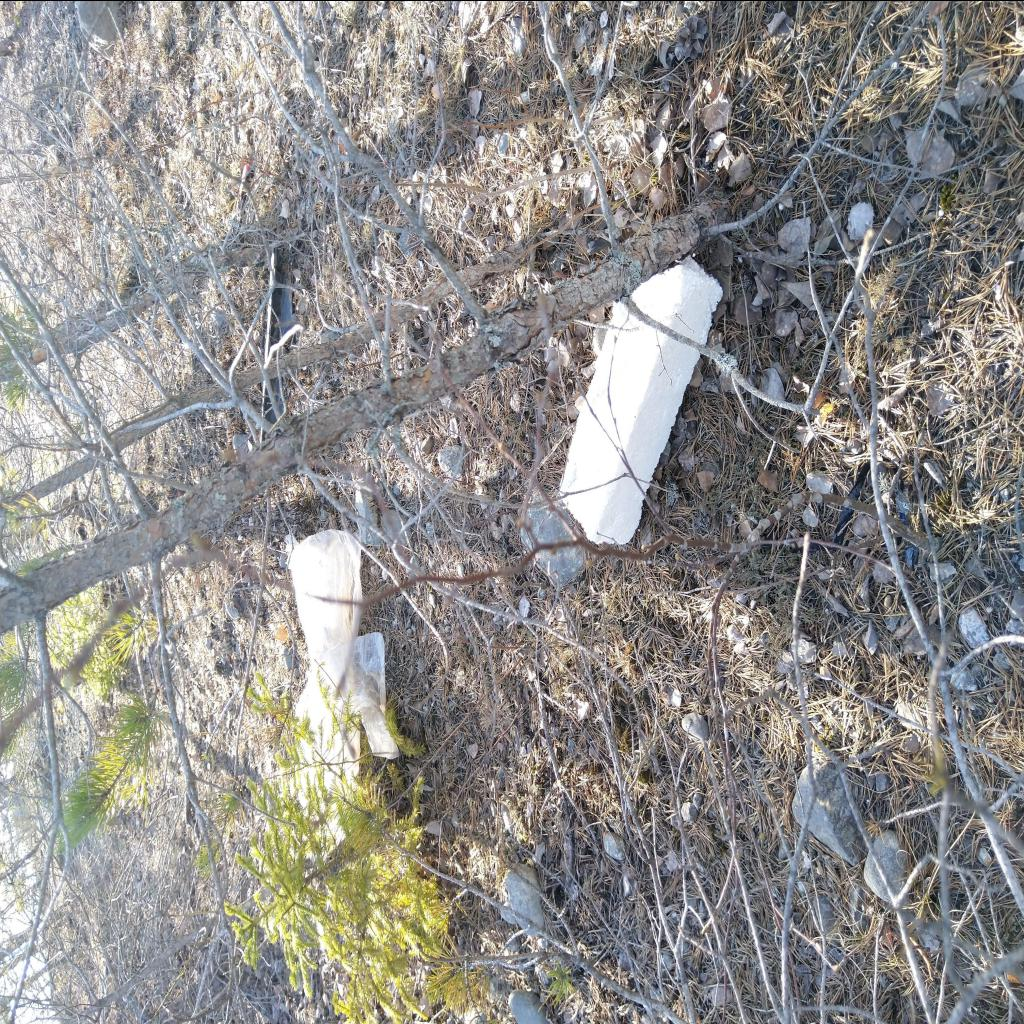Plastic film: (284, 528, 400, 844)
Styrofoam piece: (558, 254, 722, 544)
